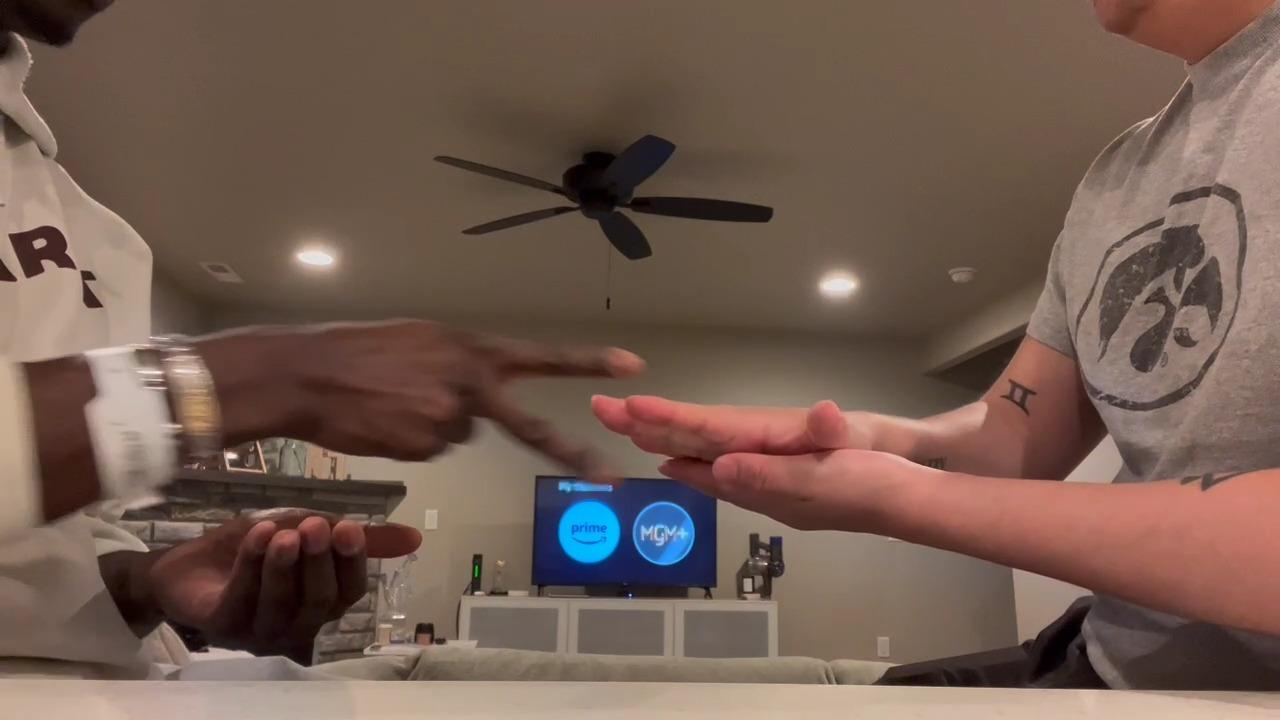Paper: (587, 384, 878, 457)
Scissors: (262, 317, 648, 491)
